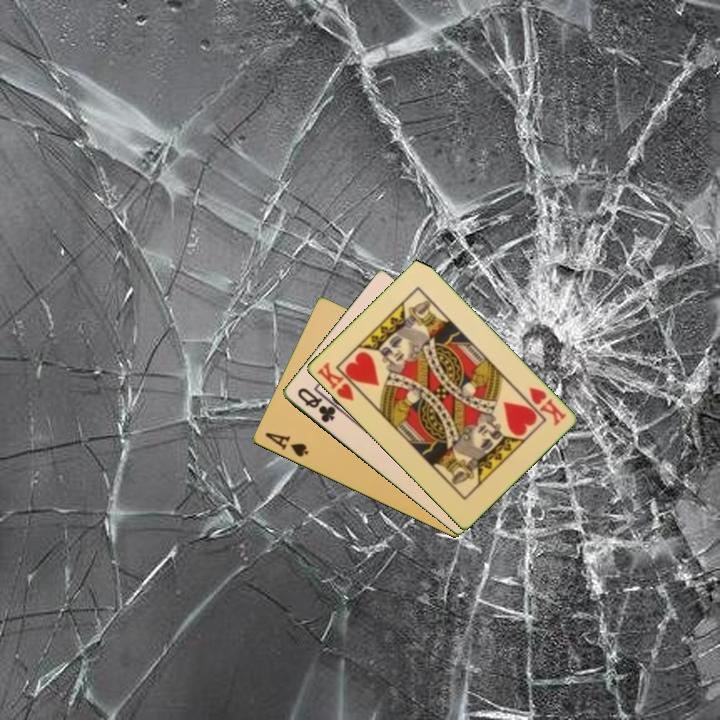As: (261, 429, 311, 460)
Kh: (313, 358, 365, 404), (525, 383, 569, 429)
Qc: (293, 384, 338, 426)
